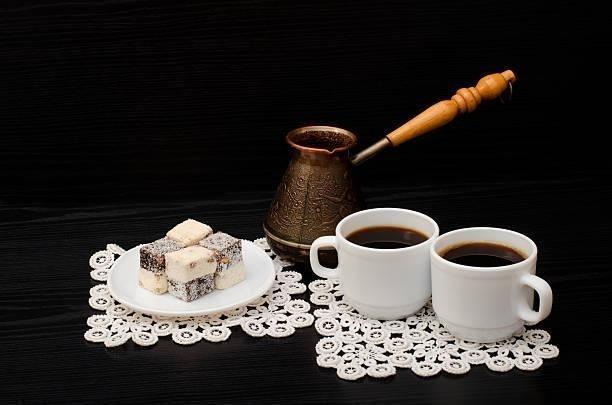cup-handle: (309, 206, 439, 321), (429, 225, 554, 344)
